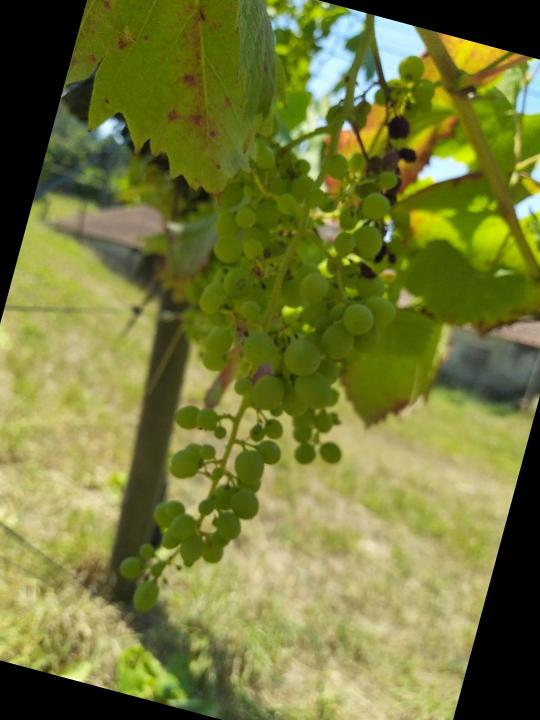grape: (104, 118, 437, 664)
